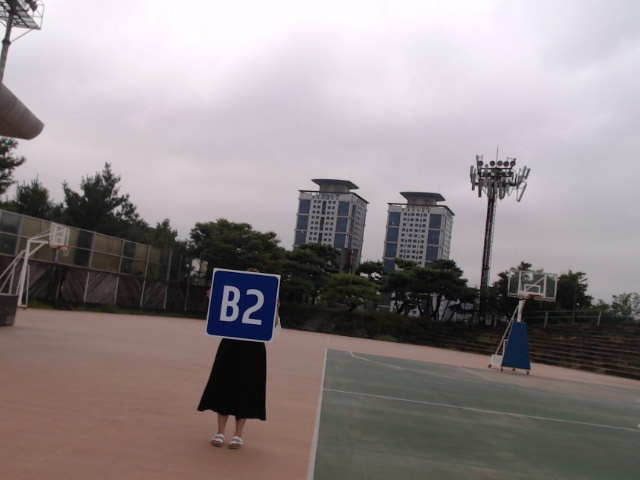delivery_b2: (205, 269, 280, 342)
